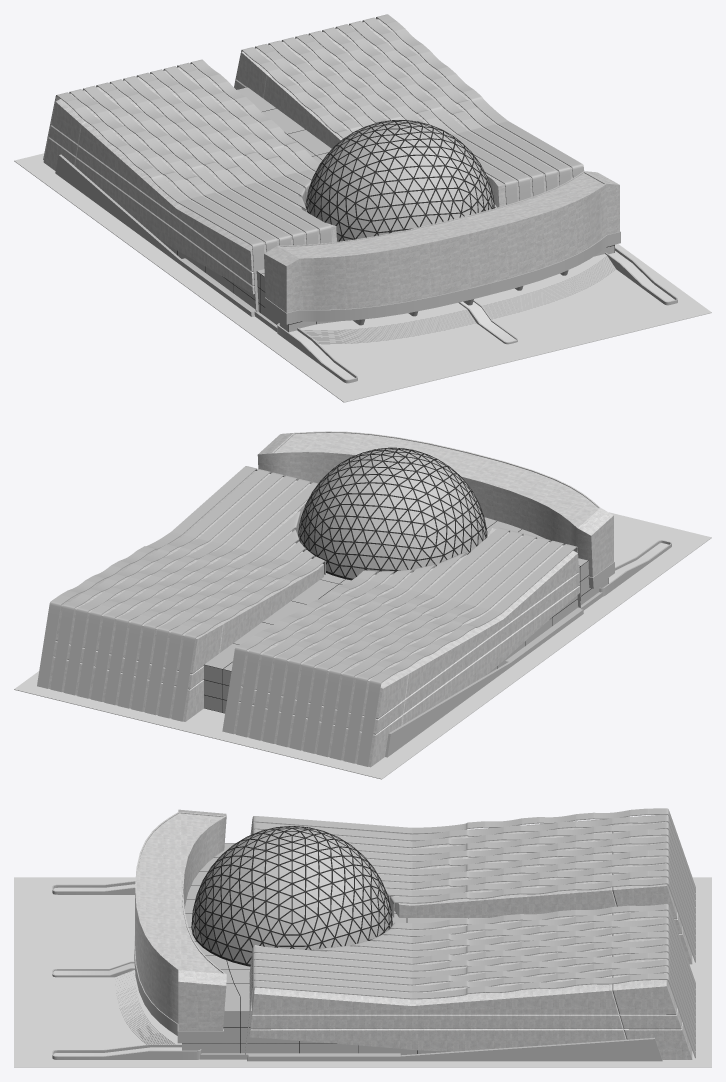
Rendered from KB3D_UTP_BldgSM_J.fbx.
The picture shows the model from 3 angles, top to bottom: view 1: azimuth 30°, elevation 25°; view 2: azimuth 150°, elevation 25°; view 3: azimuth 270°, elevation 25°; orthographic projection. The views are drawn at different scales.
Parts seen in each view (by area): view 1: KB3D_UTP_BldgSM_J_Main, KB3D_UTP_BldgSM_J_Base; view 2: KB3D_UTP_BldgSM_J_Main, KB3D_UTP_BldgSM_J_Base; view 3: KB3D_UTP_BldgSM_J_Main, KB3D_UTP_BldgSM_J_Base.
Part boxes in pixels (bbox=[...]): KB3D_UTP_BldgSM_J_Main: bbox=[43, 14, 677, 383]; KB3D_UTP_BldgSM_J_Base: bbox=[14, 153, 711, 402]; KB3D_UTP_BldgSM_J_Main: bbox=[37, 431, 671, 767]; KB3D_UTP_BldgSM_J_Base: bbox=[14, 512, 711, 779]; KB3D_UTP_BldgSM_J_Main: bbox=[52, 808, 695, 1061]; KB3D_UTP_BldgSM_J_Base: bbox=[14, 877, 711, 1067].
Bounding box in the file's own units: 15257 × 5231 × 23714.
